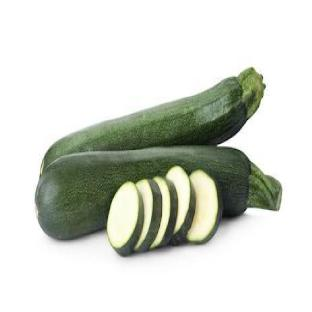Zucchini: (41, 69, 264, 175), (36, 147, 281, 238), (186, 170, 222, 243), (107, 183, 143, 255), (166, 166, 196, 244), (134, 179, 161, 251), (151, 177, 177, 248)
